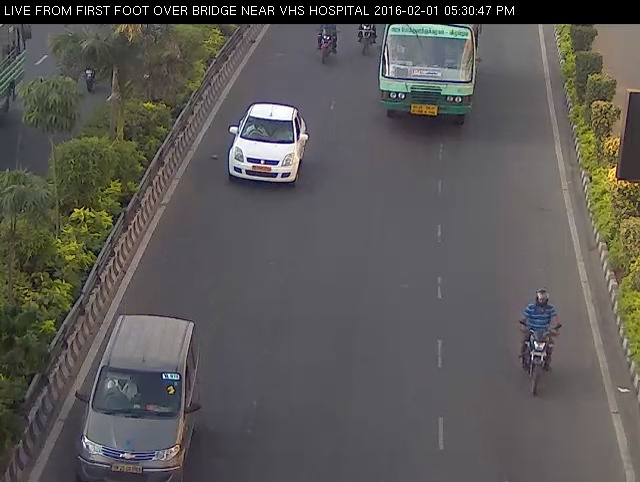Bus: (370, 16, 487, 130)
Car: (72, 305, 204, 482), (215, 92, 320, 193)
Person: (514, 282, 566, 408), (304, 21, 341, 68), (351, 20, 380, 57)
